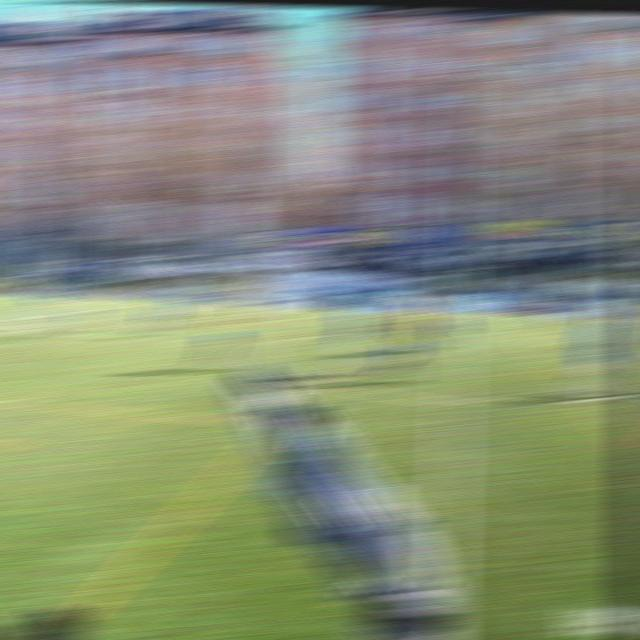bigarea_top_inner: (115, 297, 145, 313)
corner: (0, 289, 24, 301)
halfcircle_bottom: (432, 382, 476, 425)
top_arc_area_intersection: (17, 311, 47, 322)
